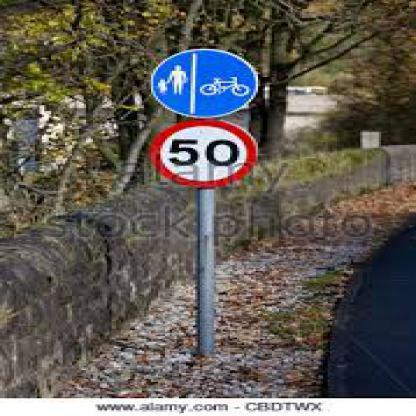Speed Limit 50: (152, 121, 258, 188)
